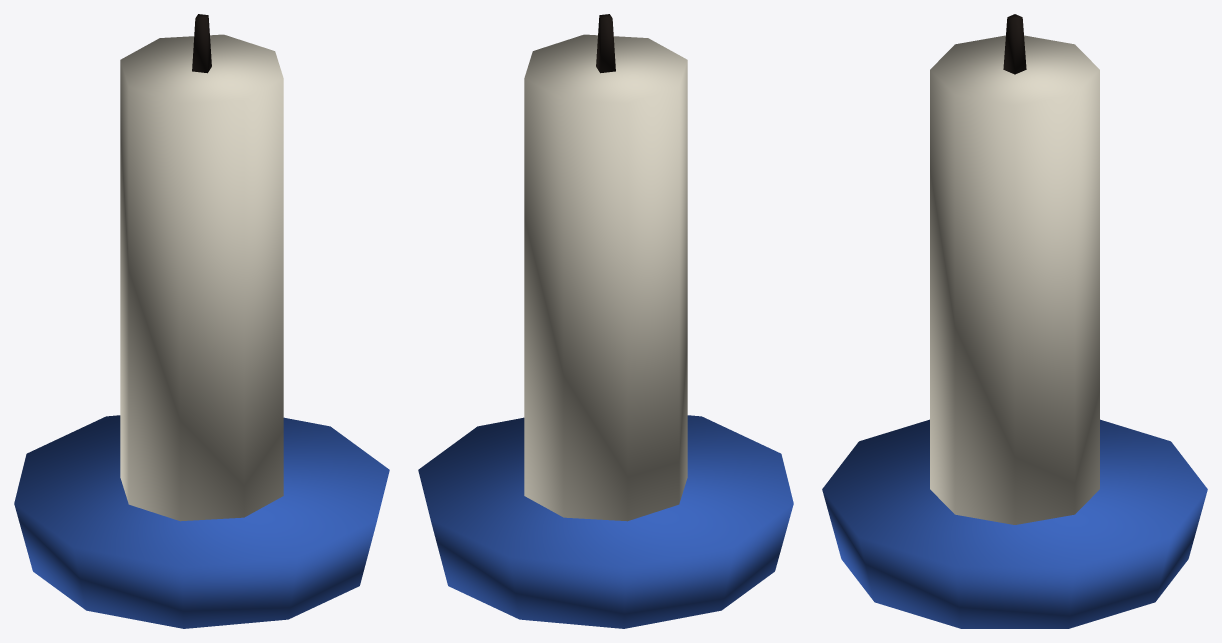
The model's file is mushroom_candle_v0.glb.
3 views of the same model, side by side, from view 1: azimuth 30°, elevation 25°; view 2: azimuth 150°, elevation 25°; view 3: azimuth 270°, elevation 25° (orthographic).
Visible parts, largest first — view 1: mushroom_candle_v0; view 2: mushroom_candle_v0; view 3: mushroom_candle_v0.
Part boxes in pixels (x1=…): mushroom_candle_v0: x1=14, y1=14, x2=389, y2=628; mushroom_candle_v0: x1=418, y1=14, x2=793, y2=628; mushroom_candle_v0: x1=822, y1=14, x2=1207, y2=628.
Size of the model in its own units: 0.0951 by 0.155 by 0.1.
